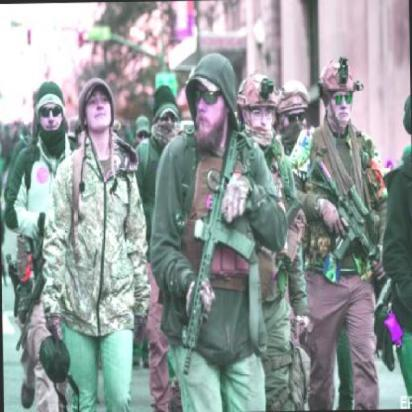Gun: (174, 121, 266, 378), (305, 150, 384, 278), (9, 221, 57, 356)
